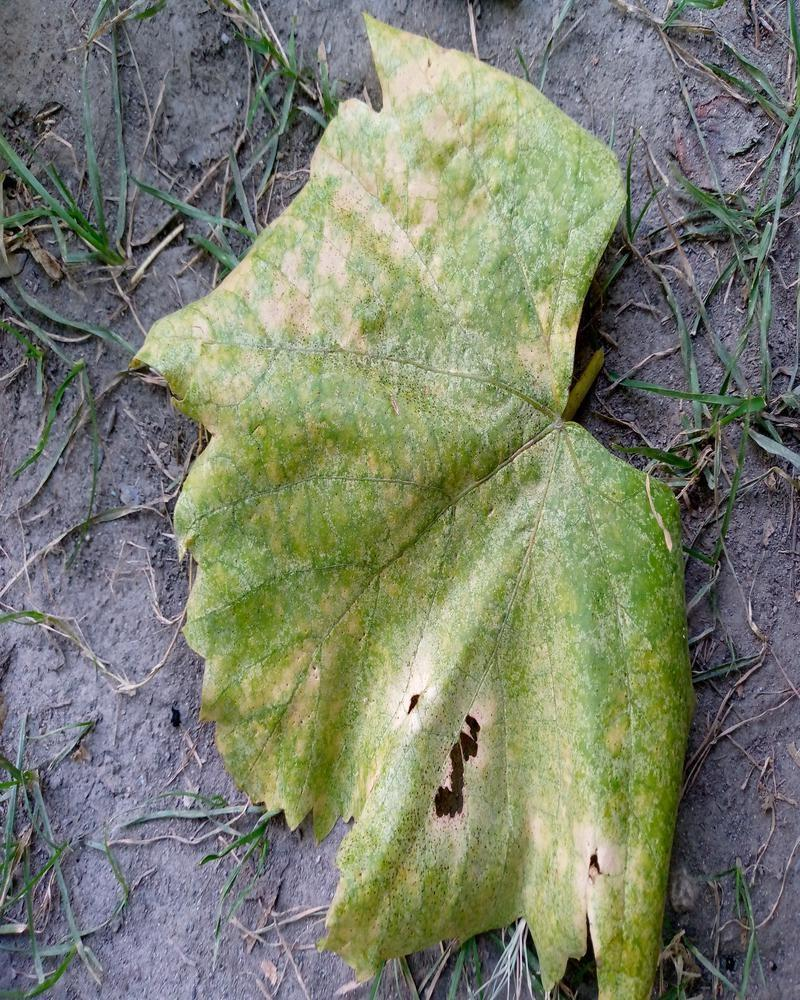Powdery-Mildew: (274, 146, 487, 345), (517, 768, 657, 953), (208, 603, 351, 782), (338, 804, 483, 953), (354, 626, 486, 786), (168, 272, 273, 446), (378, 28, 494, 151), (522, 256, 590, 407), (365, 444, 428, 507), (520, 607, 583, 670), (522, 693, 585, 756)
